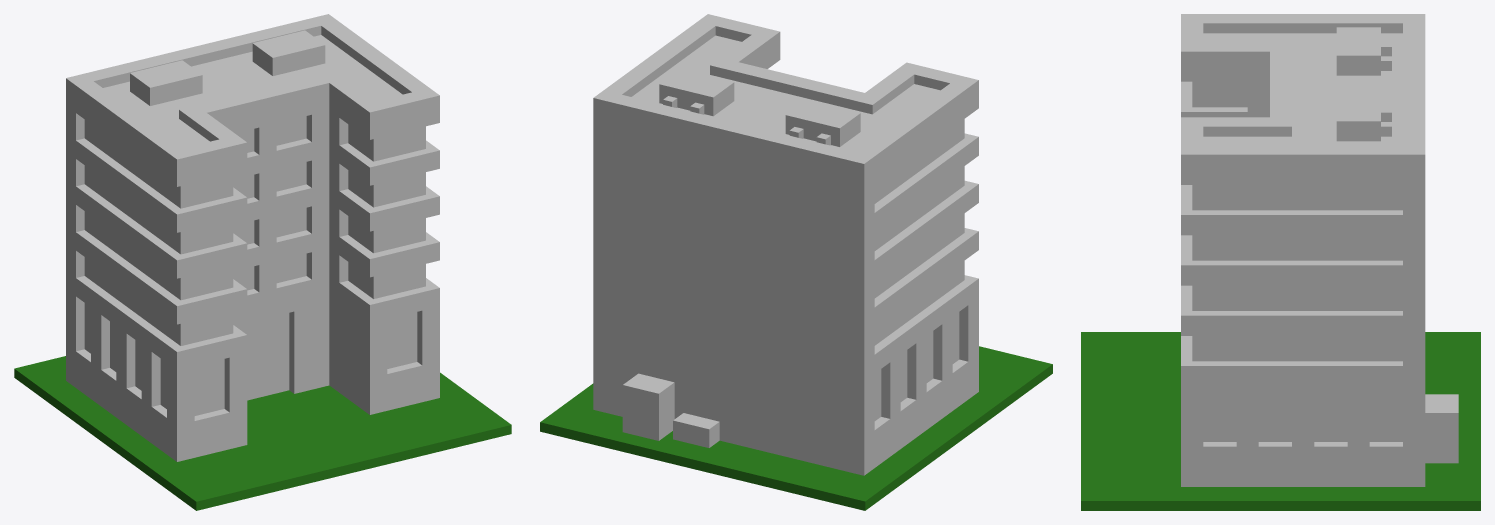
The picture shows the model from 3 angles, left to right: view 1: azimuth 30°, elevation 25°; view 2: azimuth 150°, elevation 25°; view 3: azimuth 270°, elevation 25°; orthographic projection. The views are drawn at different scales.
Parts seen in each view (by area): view 1: building_5; view 2: building_5; view 3: building_5.
Boxes of the visible parts, x1,y1,x2,y2 form: building_5: (14,14,511,510); building_5: (540,14,1052,510); building_5: (1081,14,1480,510).
Size of the model in its own units: 9 by 8.75 by 9.
